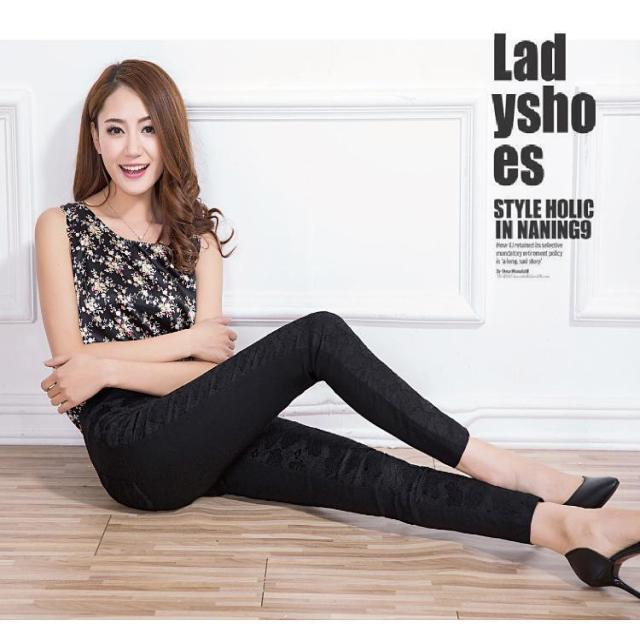trousers: (77, 313, 546, 545)
vest: (55, 201, 213, 433)
